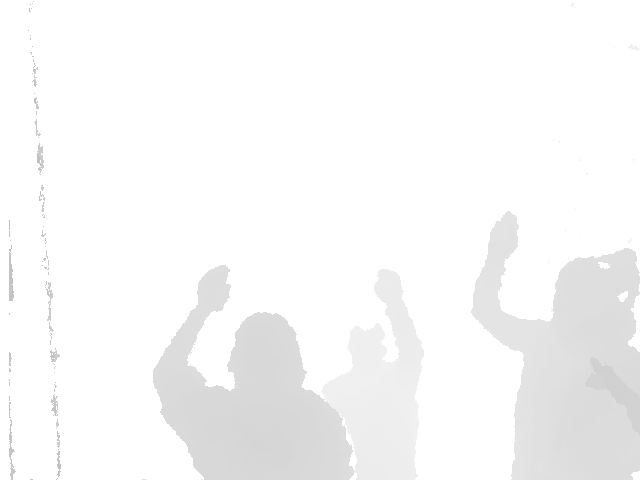hand: (196, 265, 232, 311), (488, 213, 521, 257), (374, 268, 404, 306)
head: (551, 247, 640, 335), (228, 311, 305, 393), (348, 324, 385, 363)
person: (470, 212, 640, 480), (151, 266, 357, 480), (319, 269, 426, 480)
